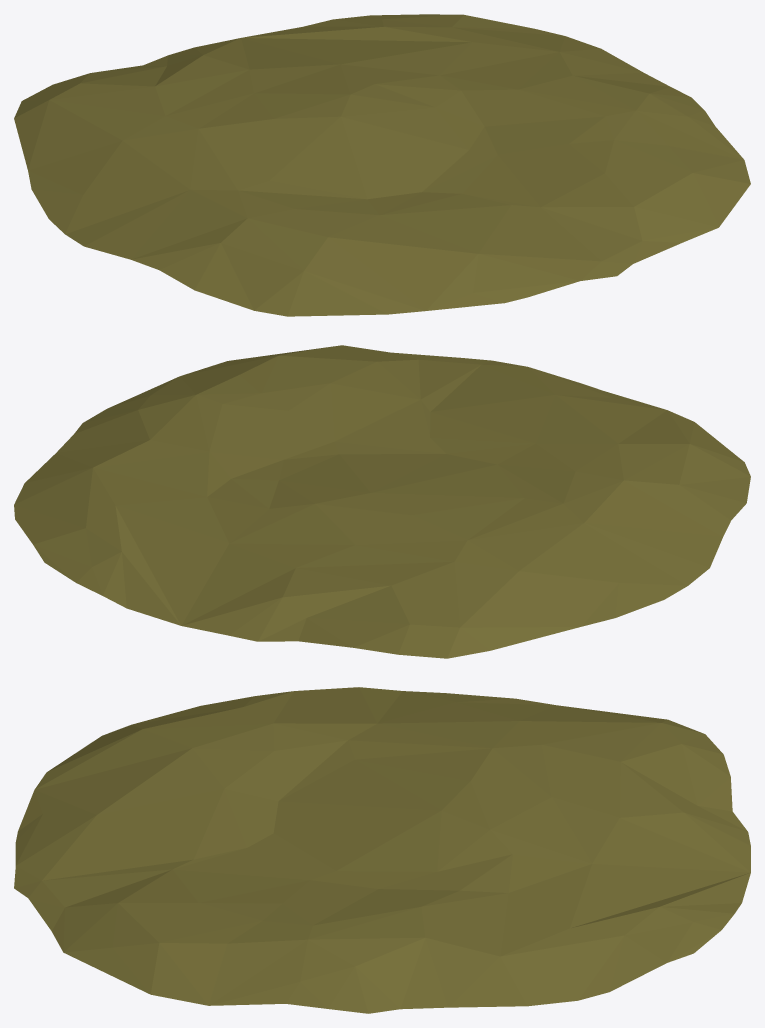
The model's file is EA_M_Env_Grass_04a.fbx.
3 views of the same model, one above another, from view 1: azimuth 30°, elevation 25°; view 2: azimuth 150°, elevation 25°; view 3: azimuth 270°, elevation 25° (orthographic). The views are drawn at different scales.
Visible parts, largest first — view 1: EA_M_Env_Grass_04a_LOD0; view 2: EA_M_Env_Grass_04a_LOD0; view 3: EA_M_Env_Grass_04a_LOD0.
Boxes of the visible parts, <box> form: EA_M_Env_Grass_04a_LOD0: <box>14,14,750,316</box>; EA_M_Env_Grass_04a_LOD0: <box>14,345,750,658</box>; EA_M_Env_Grass_04a_LOD0: <box>14,687,750,1013</box>.
Size of what is drawn, in the model's own units: 7.22 by 0.4229 by 6.97.
